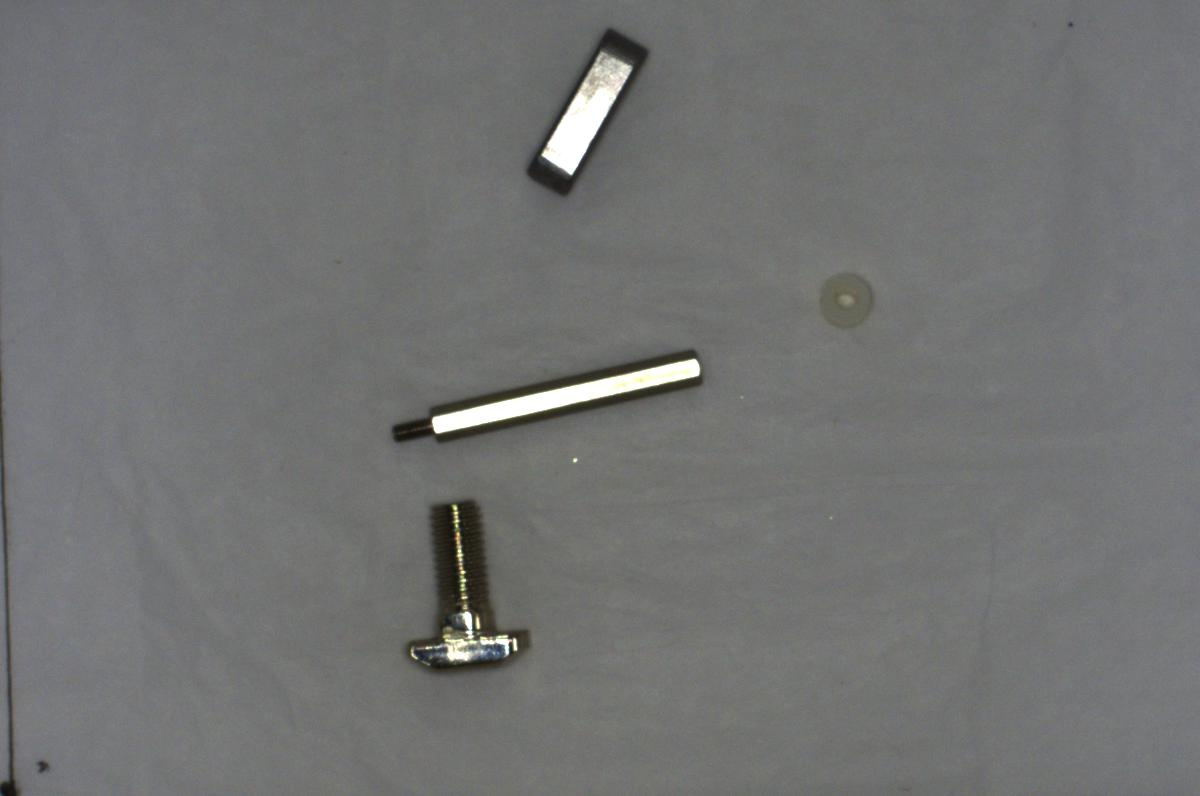Hexagonal steel column: (385, 340, 713, 450)
Keybar: (515, 21, 653, 185)
Plastic cushion pillar: (808, 272, 886, 332)
T-shaped screw: (399, 486, 533, 675)
